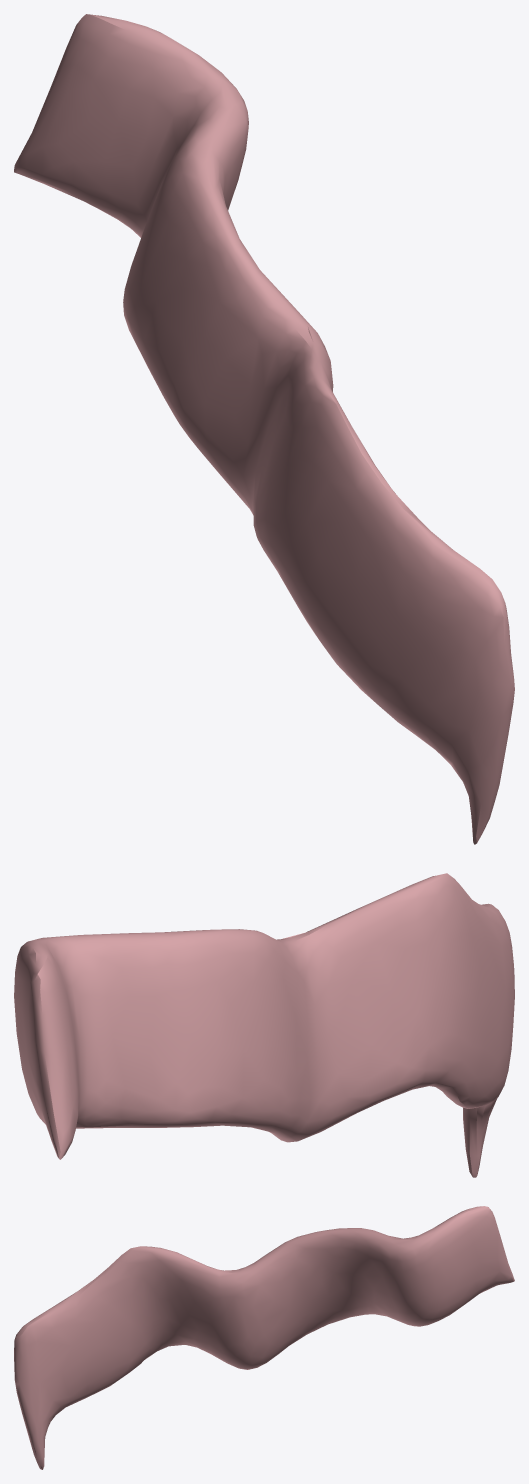
File: fma275297_mm3377.glb
3 renders of one model, top to bottom at view 1: azimuth 30°, elevation 25°; view 2: azimuth 150°, elevation 25°; view 3: azimuth 270°, elevation 25°, orthographic. The views are drawn at different scales.
Visible parts, largest first — view 1: FMA275297_MM3377; view 2: FMA275297_MM3377; view 3: FMA275297_MM3377.
Part boxes in pixels (left/top/right/bottom): FMA275297_MM3377: left=14, top=14, right=514, bottom=844; FMA275297_MM3377: left=14, top=873, right=514, bottom=1177; FMA275297_MM3377: left=14, top=1206, right=514, bottom=1469.
Bounding box in the file's own units: 0.0143 × 0.0351 × 0.0583.
